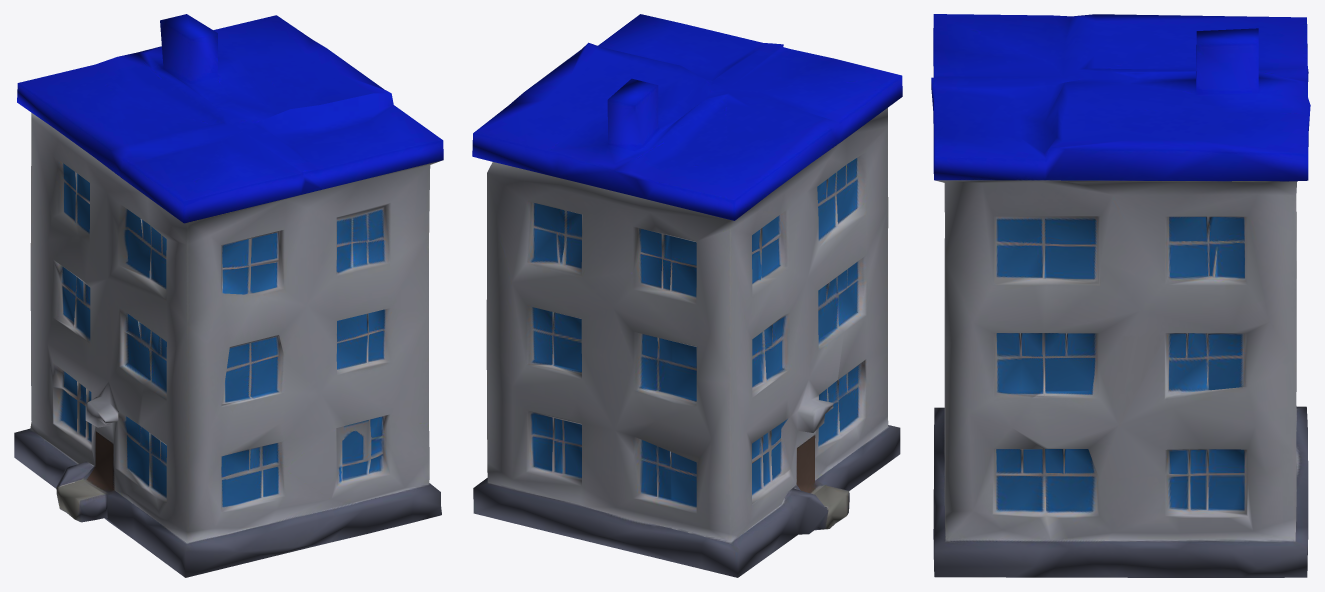
File: ecole.glb
3 renders of one model, left to right at view 1: azimuth 30°, elevation 25°; view 2: azimuth 150°, elevation 25°; view 3: azimuth 270°, elevation 25°, orthographic. The views are drawn at different scales.
Visible parts, largest first — view 1: tripo_node_5e7c72b1-4d4b-494c-acb9-19d83614c409; view 2: tripo_node_5e7c72b1-4d4b-494c-acb9-19d83614c409; view 3: tripo_node_5e7c72b1-4d4b-494c-acb9-19d83614c409.
Boxes of the visible parts, bbox=[...] form: tripo_node_5e7c72b1-4d4b-494c-acb9-19d83614c409: bbox=[14, 14, 443, 577]; tripo_node_5e7c72b1-4d4b-494c-acb9-19d83614c409: bbox=[472, 14, 902, 577]; tripo_node_5e7c72b1-4d4b-494c-acb9-19d83614c409: bbox=[931, 14, 1310, 577].
Size of the model in its own units: 0.6959 by 0.9802 by 0.7093.
Materials: 1 (1 with a texture image).
